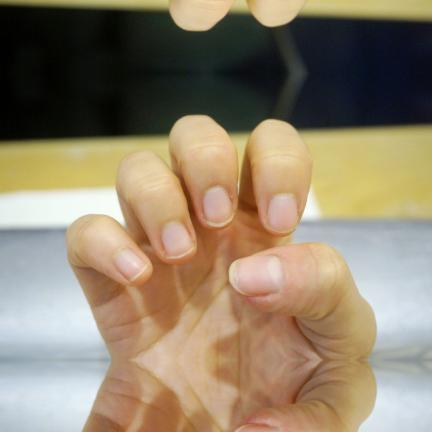Nail: (229, 255, 284, 294), (202, 185, 235, 226), (161, 220, 195, 258), (114, 247, 149, 281), (268, 192, 298, 231), (233, 424, 281, 432)
